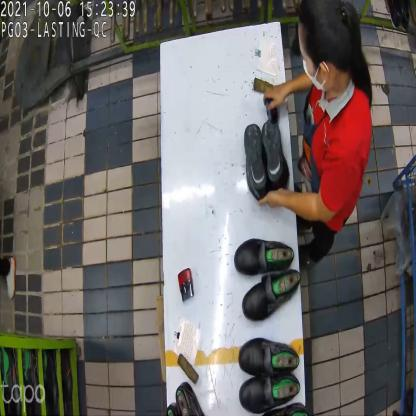shoes: (232, 234, 300, 324), (237, 335, 300, 416), (243, 115, 291, 208)
stamp: (261, 87, 281, 126), (178, 271, 197, 303)
